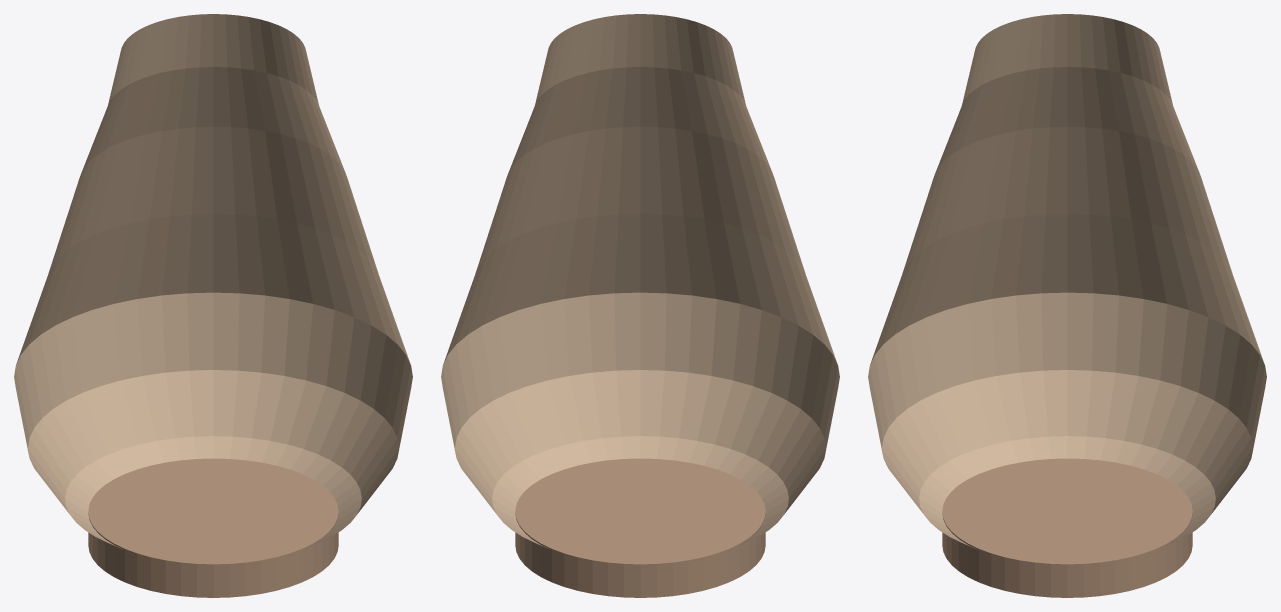
File: vase.glb
3 renders of one model, left to right at view 1: azimuth 30°, elevation 25°; view 2: azimuth 150°, elevation 25°; view 3: azimuth 270°, elevation 25°, orthographic.
Visible parts, largest first — view 1: world; view 2: world; view 3: world.
Part boxes in pixels (bbox=[...]): world: bbox=[14, 14, 412, 597]; world: bbox=[441, 14, 839, 597]; world: bbox=[868, 14, 1266, 597].
Bounding box in the file's own units: 0.86 × 1.17 × 0.86.
